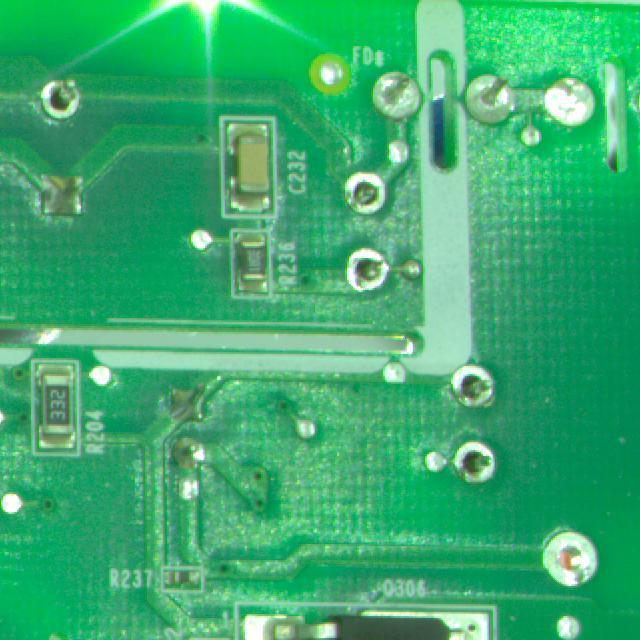Insufficient solder: (527, 521, 608, 591), (443, 436, 504, 496), (446, 366, 504, 415), (333, 171, 395, 215), (30, 78, 85, 125), (545, 79, 597, 126), (343, 249, 392, 291)
